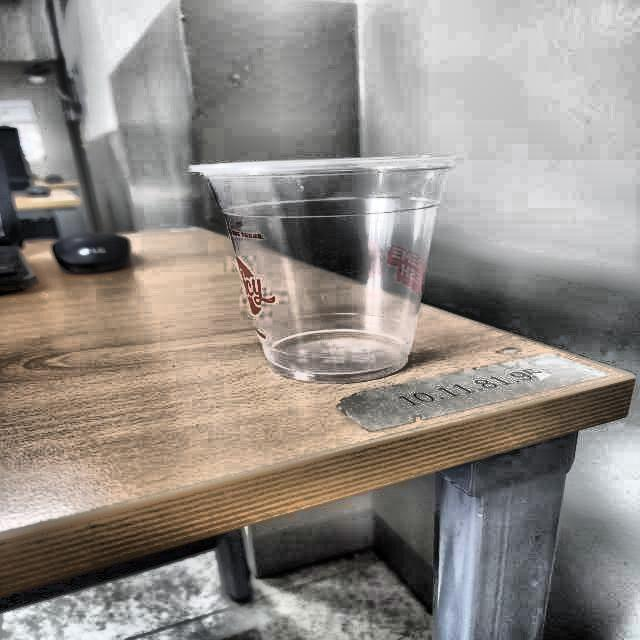plastic cup: (184, 157, 477, 381)
